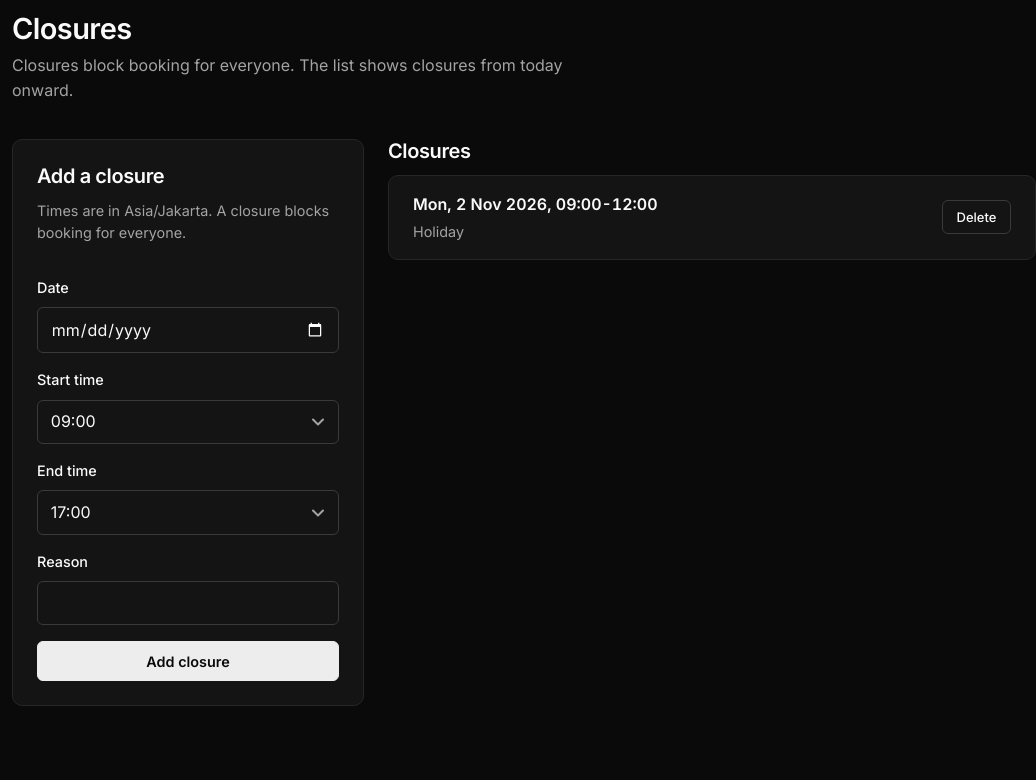
Test case: ClosuresPage › creates a closure and shows it after the list refreshes
expect the text "Holiday" is shown: met, box [413,223,464,240]
Type "2026-11-02" into the date field labelled "Date" at (188, 330), box [37,307,339,353]
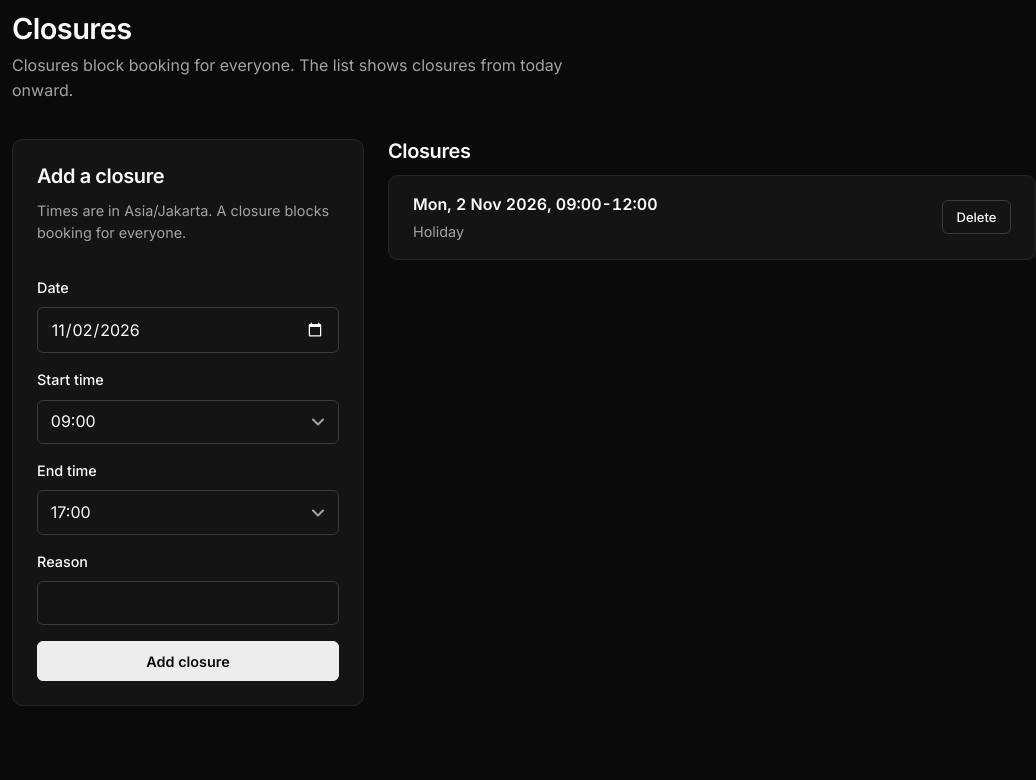
Type "Staff training" into the field labelled "Reason" at (188, 603), box [37,581,339,626]
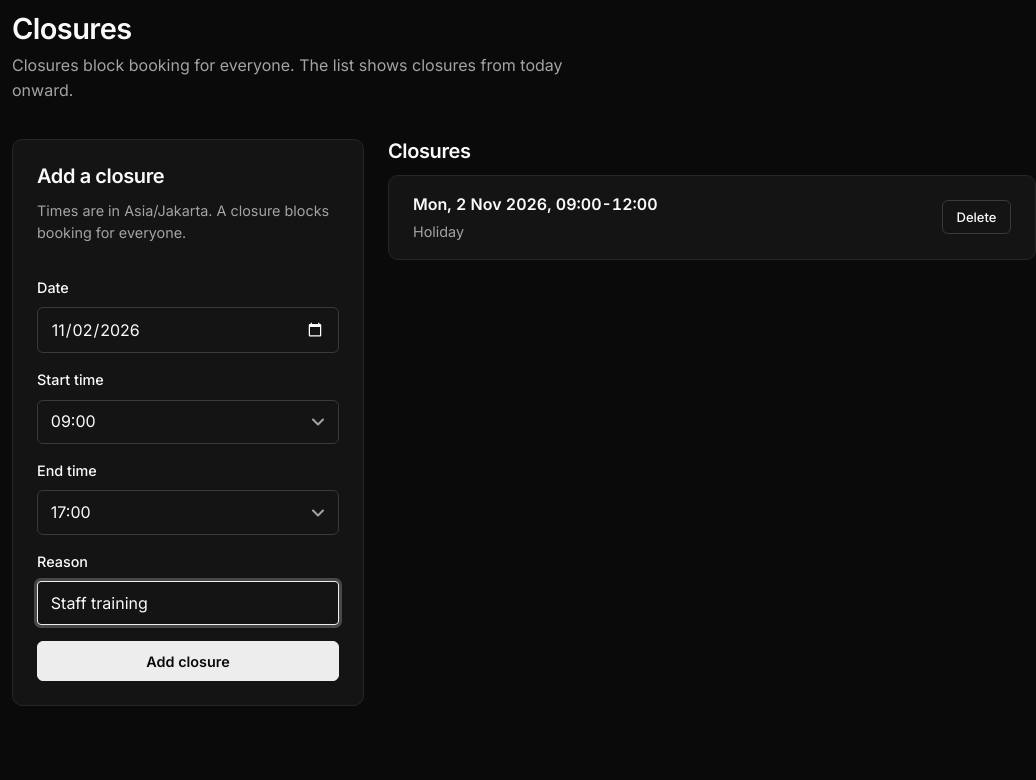
Click the button "Add closure" at (188, 662), box [37,642,339,682]
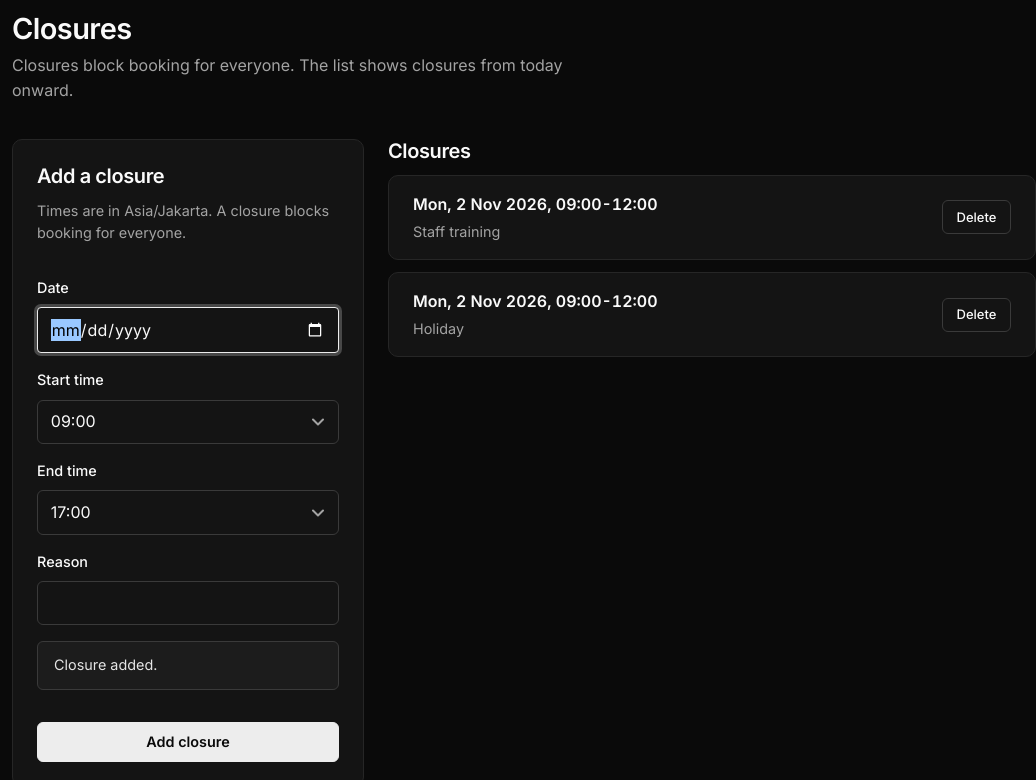
expect the text "Closure added." is shown: met, box [37,642,339,690]
expect the text "Staff training" is shown: met, box [413,223,500,240]
